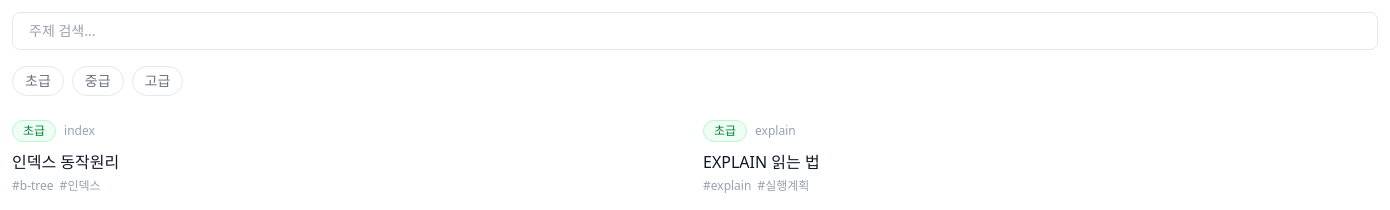
Scenario: ContentList › 난이도 필터와 검색을 조합하여 필터링한다
The image size is (1390, 210).
Click the button "초급" at {"x": 38, "y": 81}, box [12,66,64,96]
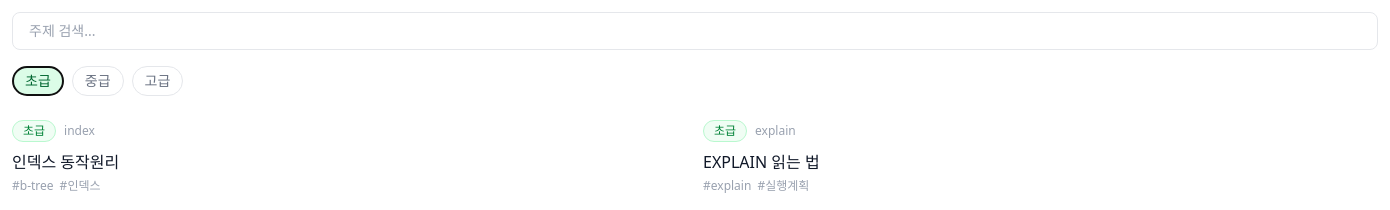
Type "EXPLAIN" into the field with placeholder "주제 검색..." at {"x": 695, "y": 31}, box [12,12,1378,50]
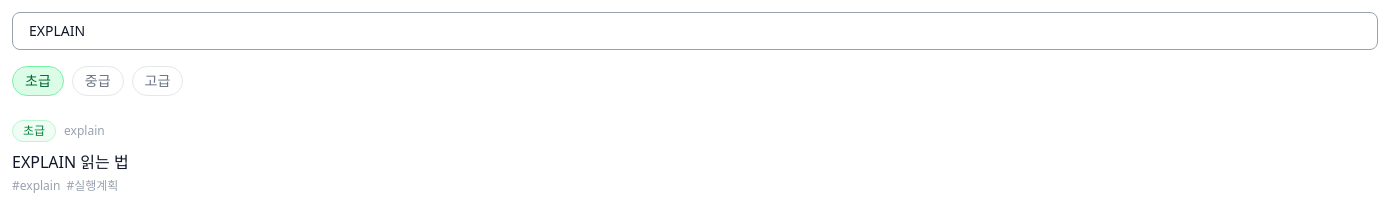
Expected: the heading "EXPLAIN 읽는 법" is shown, [12,151,129,173]
Now the link "인덱스 동작원리" is gone
